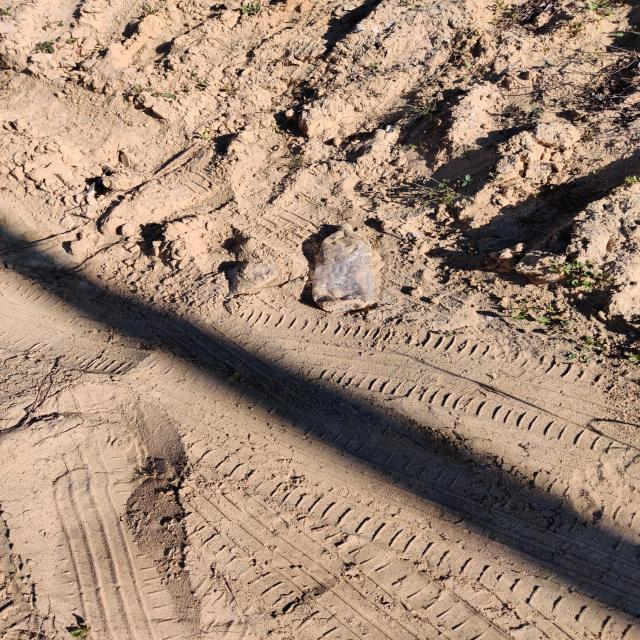litter: (310, 221, 376, 315), (221, 261, 277, 296)
